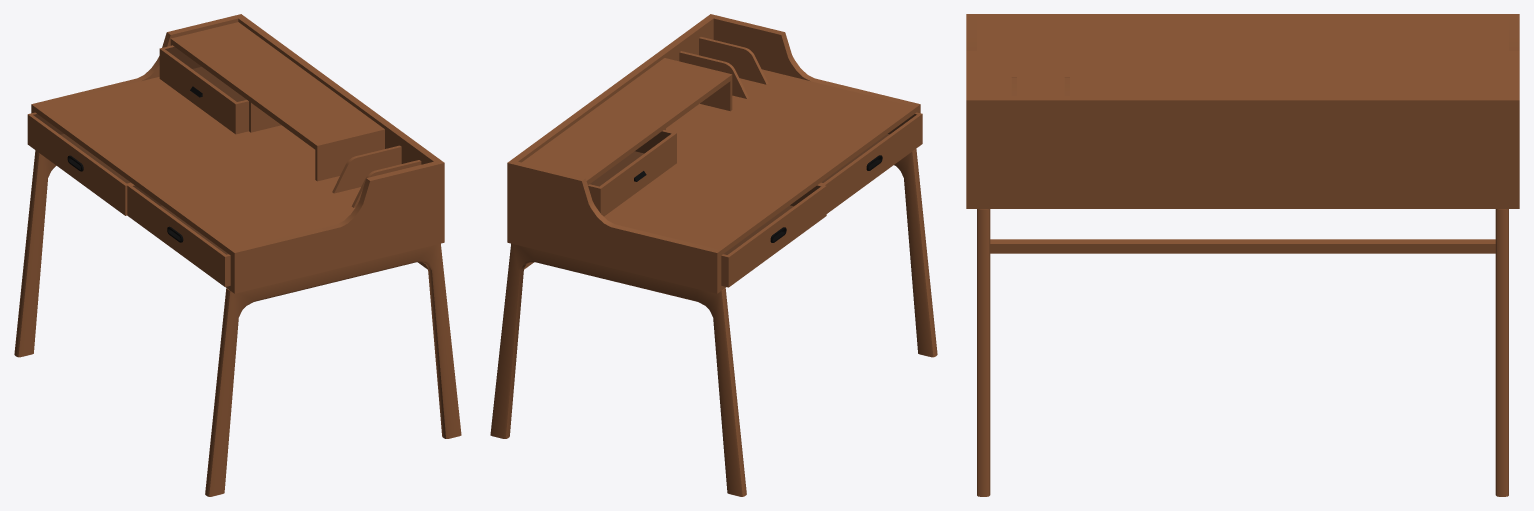
Rendered from Desk_01.glb.
The picture shows the model from 3 angles, left to right: view 1: azimuth 30°, elevation 25°; view 2: azimuth 150°, elevation 25°; view 3: azimuth 270°, elevation 25°; orthographic projection. The views are drawn at different scales.
Parts seen in each view (by area): view 1: Mesh_Desk_01; view 2: Mesh_Desk_01; view 3: Mesh_Desk_01.
Boxes of the visible parts, bbox=[...] form: Mesh_Desk_01: bbox=[14, 14, 461, 496]; Mesh_Desk_01: bbox=[490, 14, 937, 496]; Mesh_Desk_01: bbox=[966, 14, 1519, 496].
Bounding box in the file's own units: 0.7494 × 0.7922 × 1.04.
Materials: 1 (1 with a texture image).
